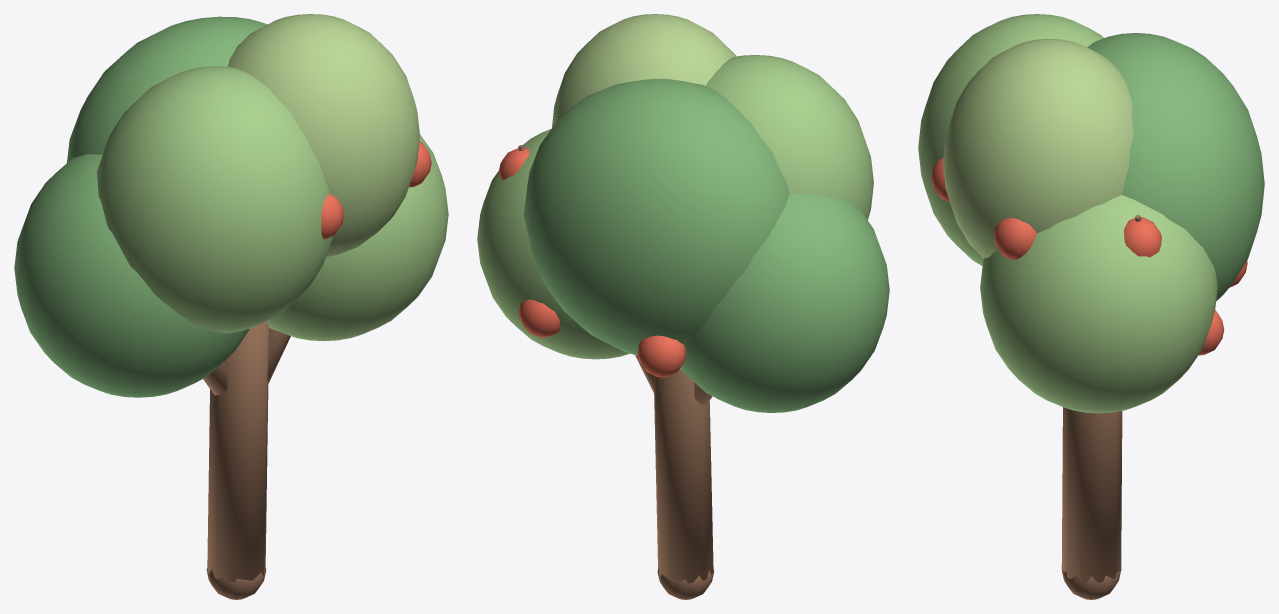
The model's file is apple-tree.glb.
The picture shows the model from 3 angles, left to right: view 1: azimuth 30°, elevation 25°; view 2: azimuth 150°, elevation 25°; view 3: azimuth 270°, elevation 25°; orthographic projection. The views are drawn at different scales.
Parts seen in each view (by area): view 1: apple-tree; view 2: apple-tree; view 3: apple-tree.
Part boxes in pixels (x1,y1,x2,y2): apple-tree: [14, 14, 448, 599]; apple-tree: [477, 14, 889, 599]; apple-tree: [918, 14, 1264, 599].
Size of the model in its own units: 1.87 by 2.56 by 1.4.
